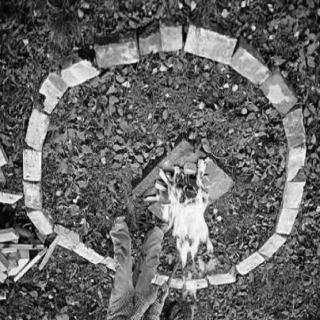Fire: (144, 174, 232, 310)
